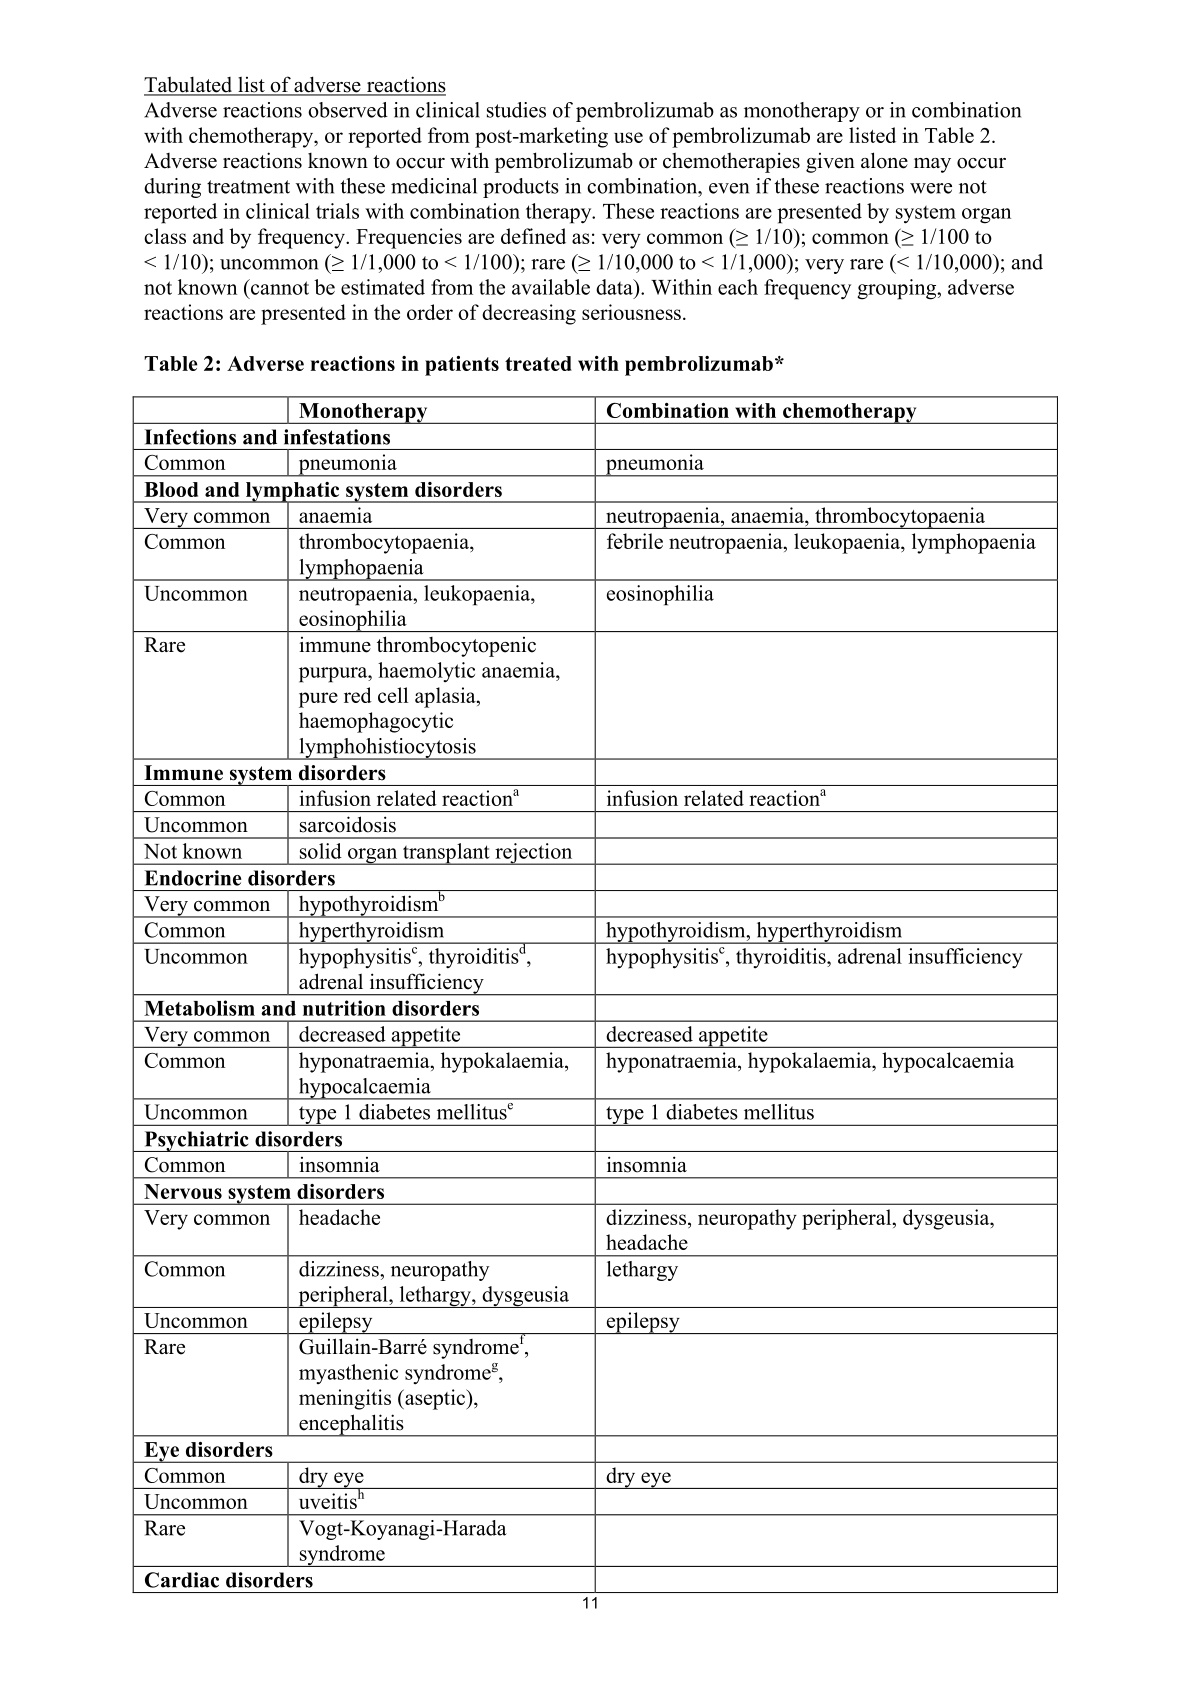merged_cells: (131, 396, 1060, 1594)
